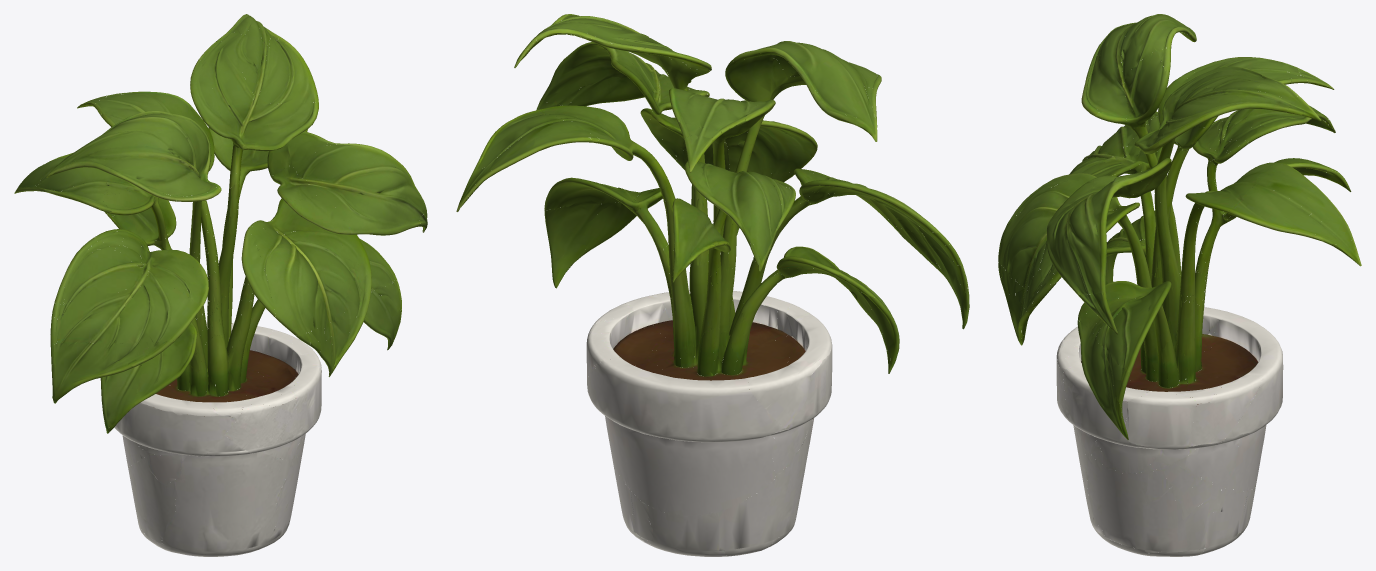
The model's file is plant.glb.
The picture shows the model from 3 angles, left to right: view 1: azimuth 30°, elevation 25°; view 2: azimuth 150°, elevation 25°; view 3: azimuth 270°, elevation 25°; orthographic projection. The views are drawn at different scales.
Visible parts, largest first — view 1: plant; view 2: plant; view 3: plant.
Boxes of the visible parts, x1,y1,x2,y2 form: plant: [14, 14, 427, 556]; plant: [456, 14, 969, 556]; plant: [998, 14, 1361, 556].
Bounding box in the file's own units: 0.8572 × 0.9787 × 0.6647.
Materials: 1 (1 with a texture image).
